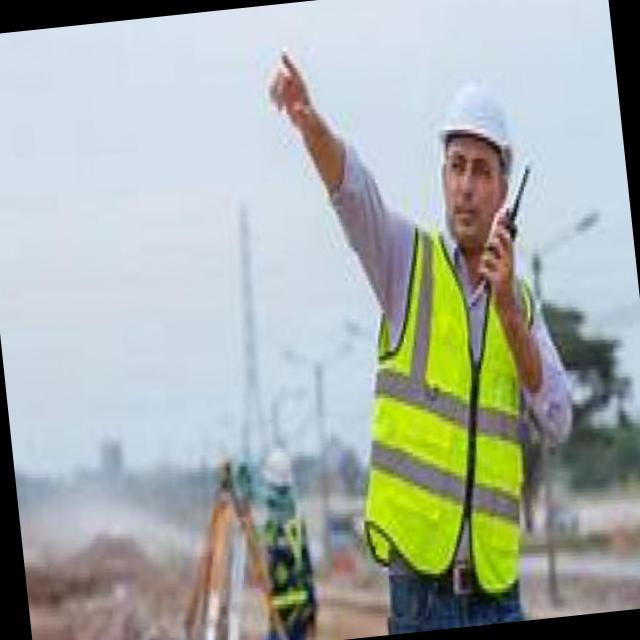not-gloved: (256, 24, 322, 141), (470, 213, 526, 298)
